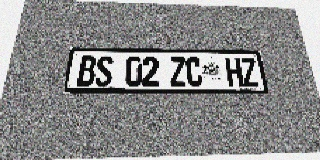0: (125, 56, 142, 86)
2: (142, 56, 159, 87)
B: (77, 56, 97, 86)
C: (185, 57, 203, 87)
H: (225, 58, 244, 87)
S: (94, 56, 113, 86)
Z: (240, 58, 260, 87), (170, 57, 187, 87)
